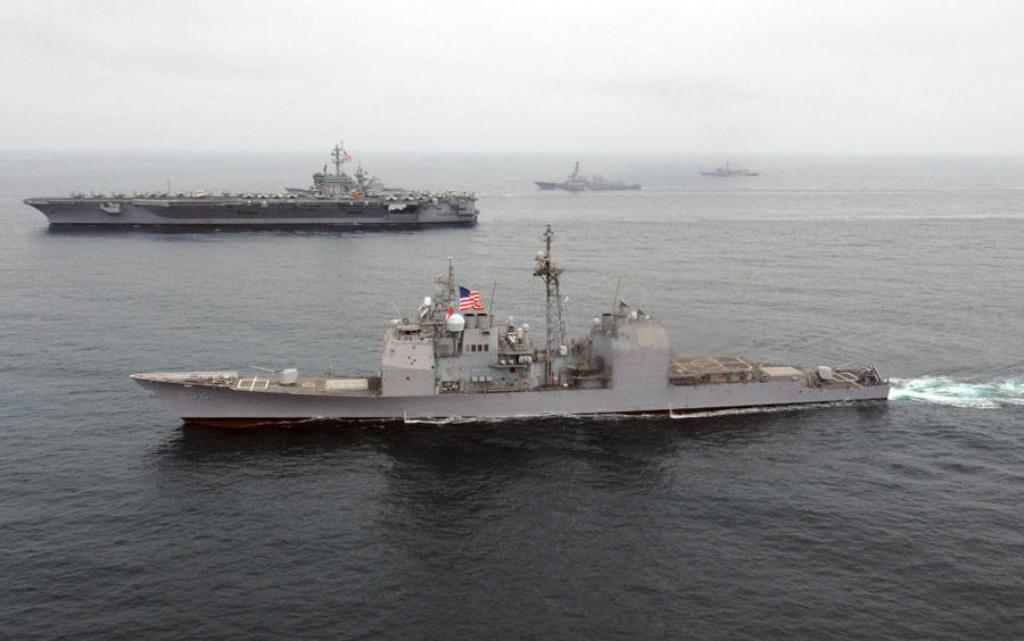Warship: (128, 214, 910, 432), (18, 132, 488, 244), (524, 148, 654, 204), (698, 140, 762, 193)
